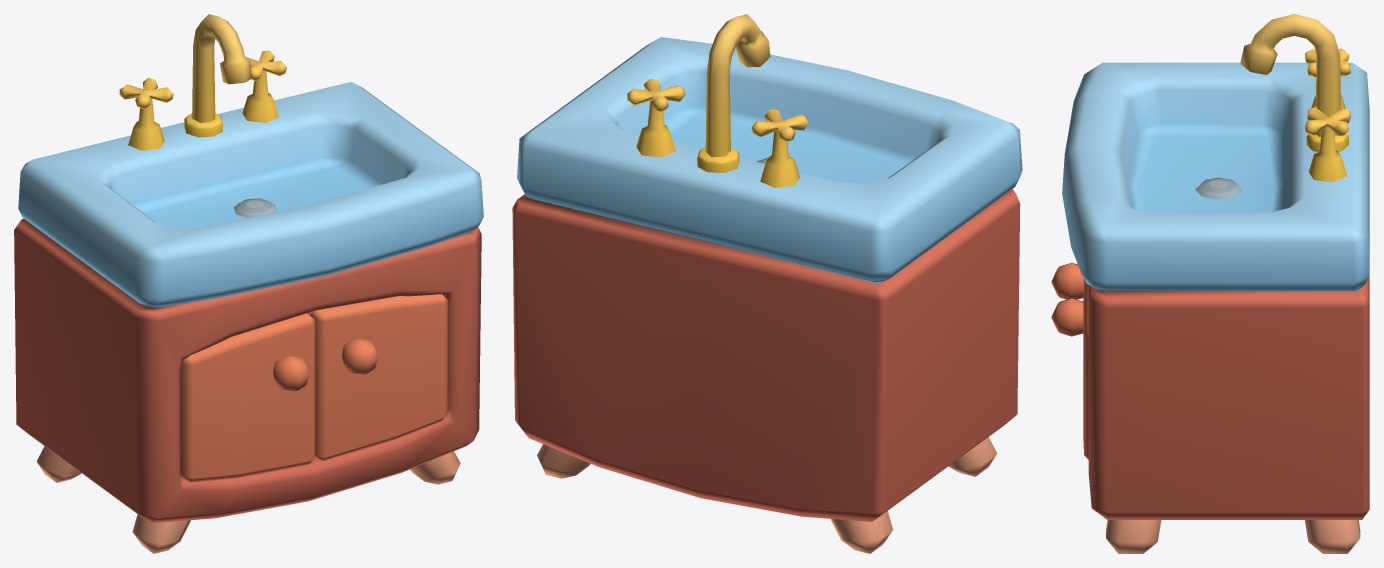
The model's file is Furniture_Bathroom_02.fbx.
3 renders of one model, left to right at view 1: azimuth 30°, elevation 25°; view 2: azimuth 150°, elevation 25°; view 3: azimuth 270°, elevation 25°, orthographic. The views are drawn at different scales.
Visible parts, largest first — view 1: Furniture_Bathroom_02; view 2: Furniture_Bathroom_02; view 3: Furniture_Bathroom_02.
Boxes of the visible parts, x1=… form: Furniture_Bathroom_02: x1=14, y1=14, x2=483, y2=553; Furniture_Bathroom_02: x1=512, y1=14, x2=1022, y2=553; Furniture_Bathroom_02: x1=1051, y1=14, x2=1369, y2=553.
Size of the model in its own units: 125 by 152 by 94.52.
